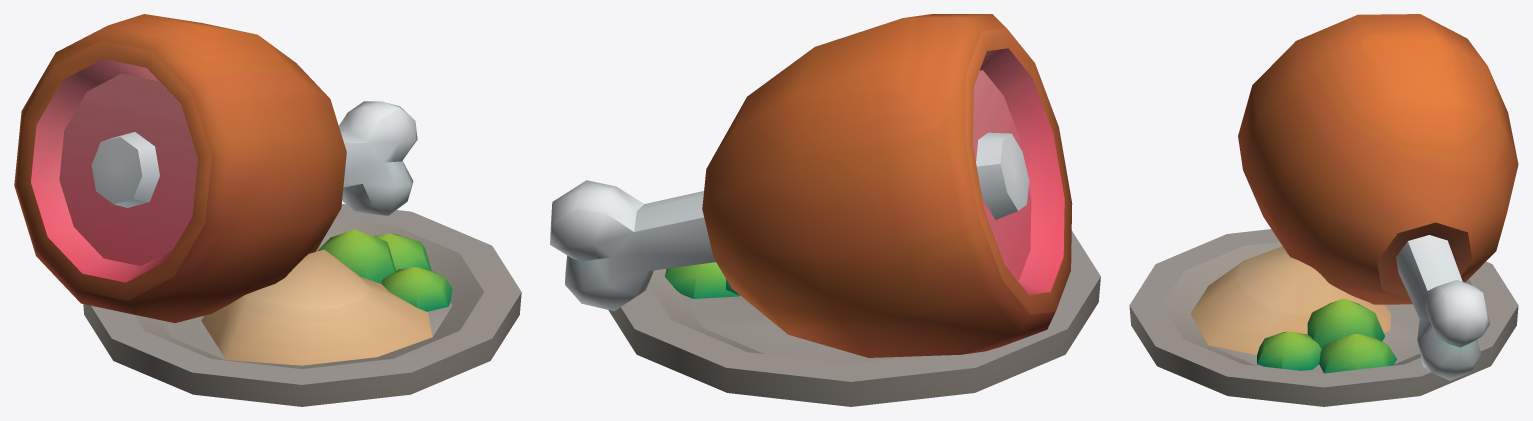
The model's file is kay-prato-comida.gltf.
The picture shows the model from 3 angles, left to right: view 1: azimuth 30°, elevation 25°; view 2: azimuth 150°, elevation 25°; view 3: azimuth 270°, elevation 25°; orthographic projection. The views are drawn at different scales.
Visible parts, largest first — view 1: plate_food_A; view 2: plate_food_A; view 3: plate_food_A.
Part boxes in pixels (left/top/right/bottom): plate_food_A: left=14, top=14, right=521, bottom=406; plate_food_A: left=550, top=14, right=1100, bottom=406; plate_food_A: left=1129, top=14, right=1518, bottom=406.
Size of the model in its own units: 0.6662 by 0.512 by 0.6309.
1 material, 1 textured.
